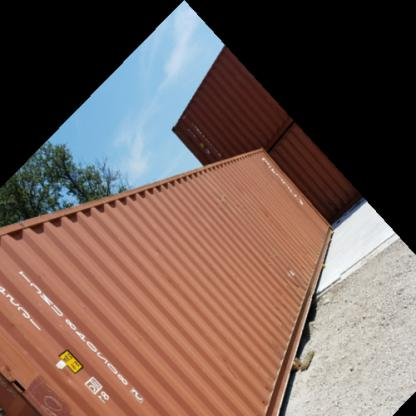Damage: (63, 355, 88, 400), (204, 182, 232, 215), (282, 261, 302, 294)
